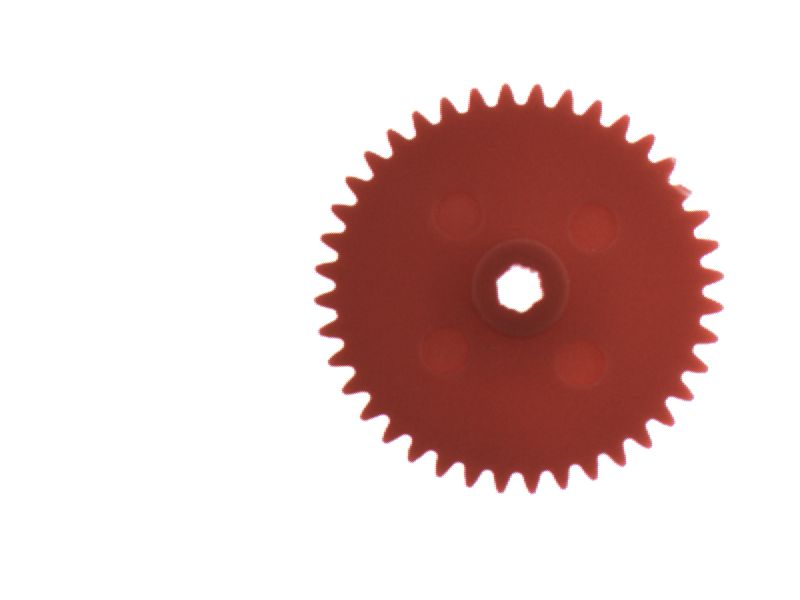defect_break: (664, 174, 708, 211)
